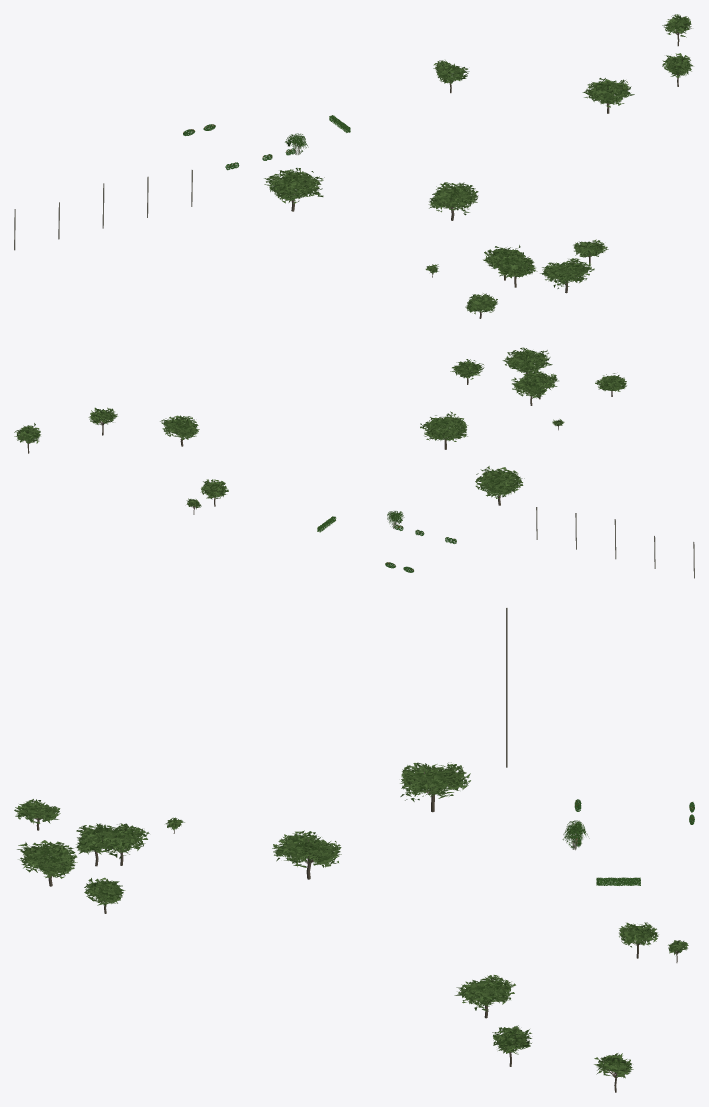
File: vegetacion.glb
3 renders of one model, top to bottom at view 1: azimuth 30°, elevation 25°; view 2: azimuth 150°, elevation 25°; view 3: azimuth 270°, elevation 25°, orthographic. The views are drawn at different scales.
Visible parts, largest first — view 1: V018 real tree broadleaf 0, V018 real tree broadleaf 6, V018 real tree broadleaf 2, V018 real tree broadleaf 1, V018 real tree broadleaf 3, V018 real tree broadleaf 5, V018 real tree broadleaf 4; view 2: V018 real tree broadleaf 0, V018 real tree broadleaf 2, V018 real tree broadleaf 6, V018 real tree broadleaf 1, V018 real tree broadleaf 5, V018 real tree broadleaf 3, V018 real tree broadleaf 4; view 3: V018 real tree broadleaf 0, V018 real tree broadleaf 2, V018 real tree broadleaf 3, V018 real tree broadleaf 6, V018 real tree broadleaf 1, V018 real tree broadleaf 5, V018 real tree broadleaf 4.
Boxes of the visible parts, <box> form: V018 real tree broadleaf 0: <box>264,16,690,311</box>; V018 real tree broadleaf 6: <box>268,14,690,314</box>; V018 real tree broadleaf 2: <box>264,15,693,312</box>; V018 real tree broadleaf 1: <box>271,16,690,311</box>; V018 real tree broadleaf 3: <box>269,16,691,311</box>; V018 real tree broadleaf 5: <box>269,17,691,312</box>; V018 real tree broadleaf 4: <box>267,14,691,312</box>; V018 real tree broadleaf 0: <box>17,348,626,509</box>; V018 real tree broadleaf 2: <box>18,349,626,506</box>; V018 real tree broadleaf 6: <box>14,349,625,505</box>; V018 real tree broadleaf 1: <box>17,347,621,507</box>; V018 real tree broadleaf 5: <box>14,351,623,506</box>; V018 real tree broadleaf 3: <box>16,350,626,506</box>; V018 real tree broadleaf 4: <box>18,350,625,506</box>; V018 real tree broadleaf 0: <box>14,762,683,1073</box>; V018 real tree broadleaf 2: <box>15,765,683,1074</box>; V018 real tree broadleaf 3: <box>15,764,687,1075</box>; V018 real tree broadleaf 6: <box>17,762,687,1074</box>; V018 real tree broadleaf 1: <box>18,766,687,1077</box>; V018 real tree broadleaf 5: <box>16,763,683,1078</box>; V018 real tree broadleaf 4: <box>16,763,688,1077</box>.
Bounding box in the file's own units: 244 × 14.66 × 159.
